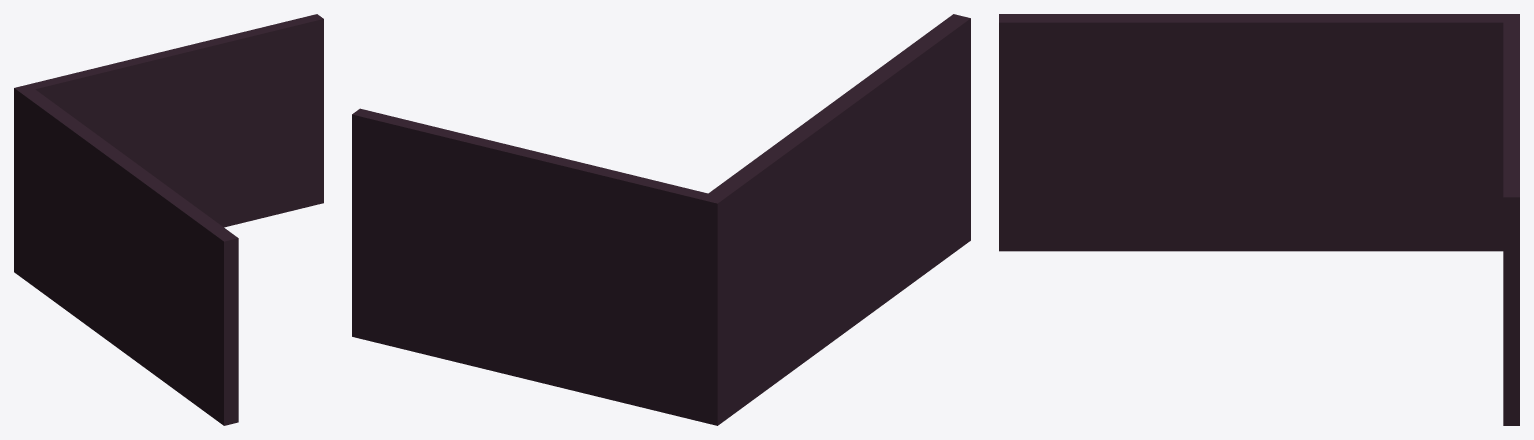
Rendered from Chanks-0.obj.
3 renders of one model, left to right at view 1: azimuth 30°, elevation 25°; view 2: azimuth 150°, elevation 25°; view 3: azimuth 270°, elevation 25°, orthographic. The views are drawn at different scales.
Bounding box in the file's own units: 10.5 × 6.1 × 12.6.
1 material, 1 textured.
